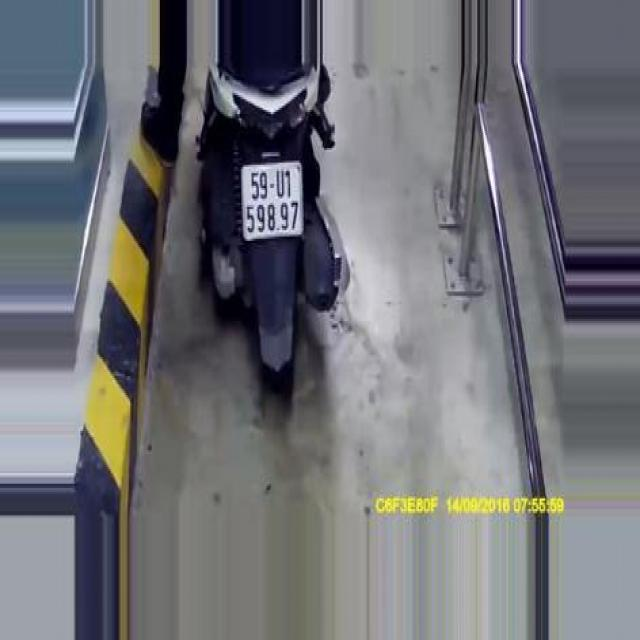License-Plates: (236, 151, 307, 254)
